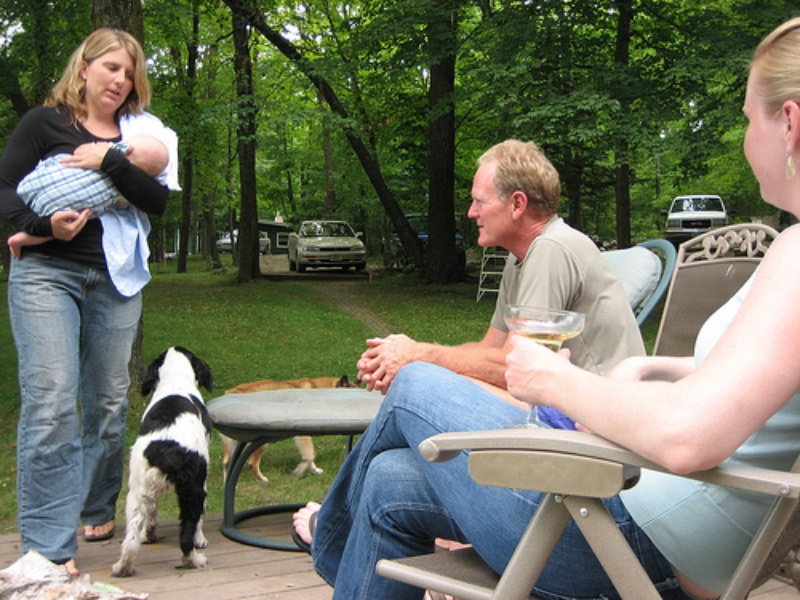car: (286, 220, 364, 270), (665, 195, 728, 239), (217, 230, 271, 254)
person: (292, 18, 800, 600), (1, 28, 173, 577), (357, 139, 648, 392), (8, 135, 169, 259)
